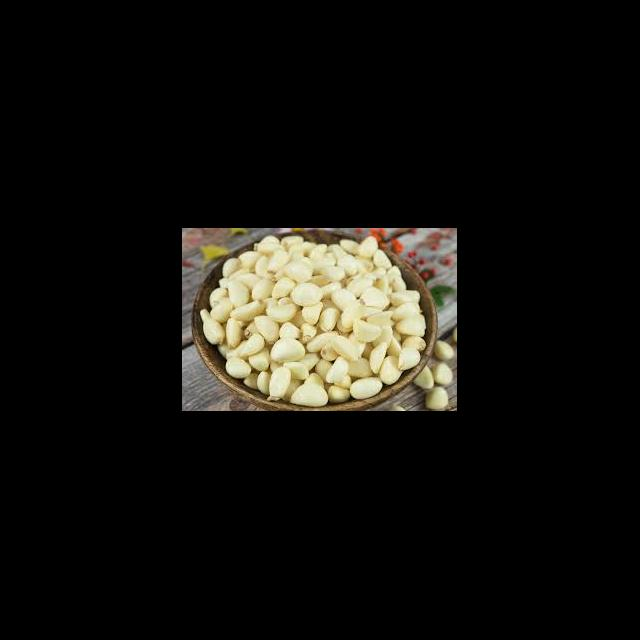garlic: (262, 332, 354, 402), (226, 278, 299, 342), (320, 282, 394, 342)
